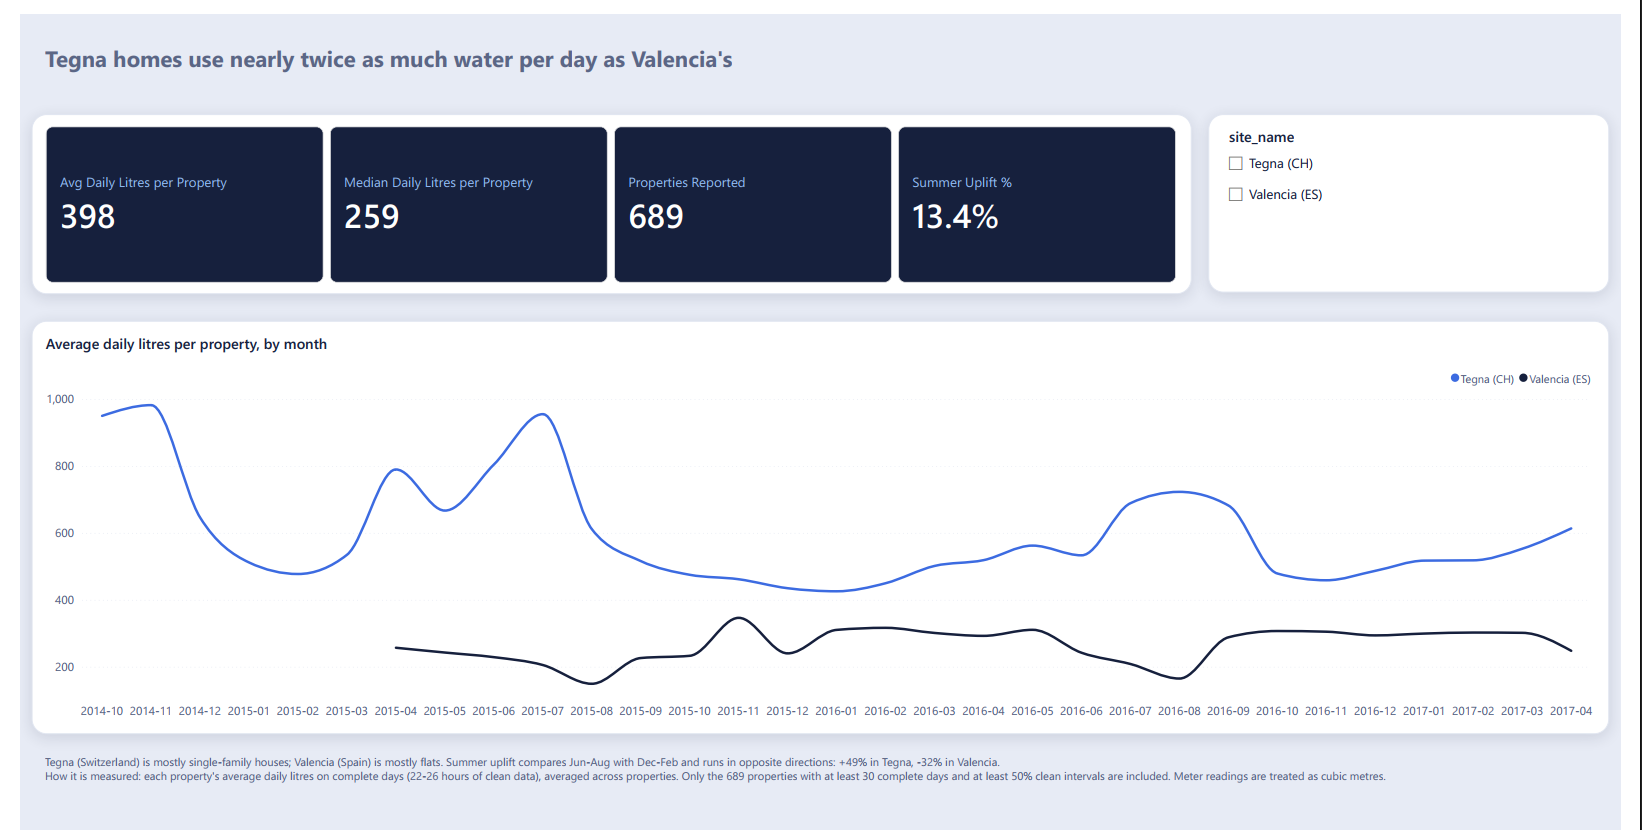

Layout of this report page (visuals, bound fields, positions):
{"tool":"powerbi","page":{"name":"Overview","canvas":[1920,1080],"ordinal":0},"visuals":[{"type":"cardVisual","fields":{"Data":["_Measures.Avg Daily Litres per Property","_Measures.Median Daily Litres per Property","_Measures.Properties Reported","_Measures.Summer Uplift %"]},"box":[14.5,119.4,1391.6,215.3],"z":0},{"type":"slicer","fields":{"Values":["DimProperty.site_name"]},"box":[1426,119.4,481.4,213.5],"z":1},{"type":"lineChart","title":"Average daily litres per property, by month","fields":{"Category":["DimDate.year_month"],"Series":["DimProperty.site_name"],"Y":["_Measures.Avg Daily Litres per Property"]},"box":[14.5,367.4,1892.9,495.8],"z":2},{"type":"textbox","box":[14,20,1400,90],"z":3},{"type":"textbox","box":[14,873,1893,207],"z":4}]}

Visuals, with their boxes on the page's 1920x1080 design canvas (x1, y1, x2, y2). These are canvas units, not pixel positions in the 1642x830 screenshot, which may show the page scaled, cropped or inside an application window:
cardVisual - _Measures.Avg Daily Litres per Property x _Measures.Median Daily Litres per Property: Rect(14, 119, 1406, 335)
slicer - DimProperty.site_name: Rect(1426, 119, 1907, 333)
"Average daily litres per property, by month" lineChart: Rect(14, 367, 1907, 863)
textbox: Rect(14, 20, 1414, 110)
textbox: Rect(14, 873, 1907, 1080)
